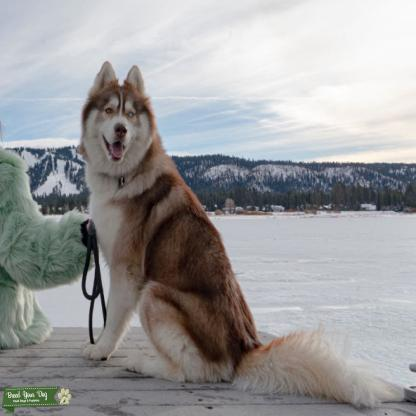husky: (74, 59, 392, 406), (0, 145, 96, 352)
